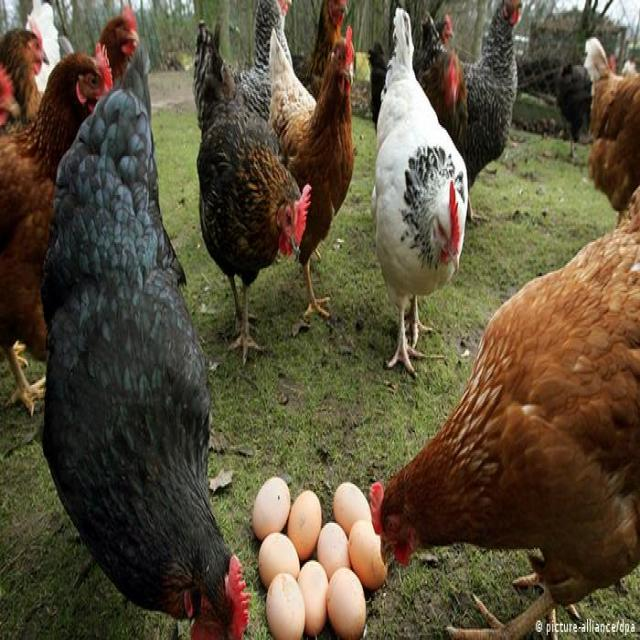chicken: (62, 105, 262, 640), (414, 267, 640, 640), (379, 26, 501, 364), (2, 57, 128, 370), (198, 53, 321, 328), (277, 37, 370, 257), (461, 12, 550, 195)
